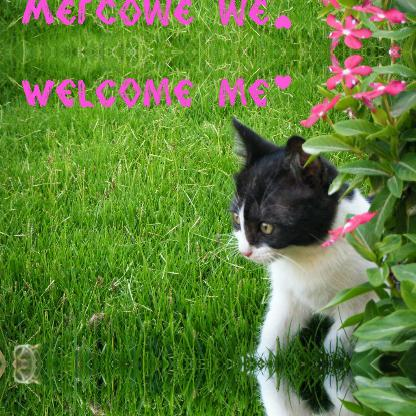Cat: (228, 122, 392, 362), (227, 365, 393, 415)
